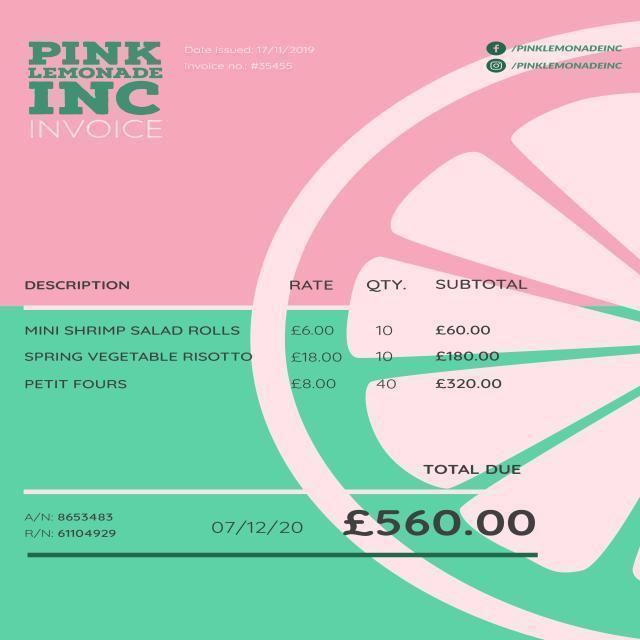paragraph: (340, 440, 539, 552), (24, 39, 168, 144), (485, 37, 628, 76), (183, 43, 320, 79), (22, 510, 126, 543), (206, 513, 314, 542)
table: (14, 275, 525, 400)
